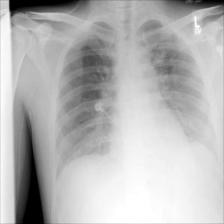normal: (50, 14, 223, 181)
